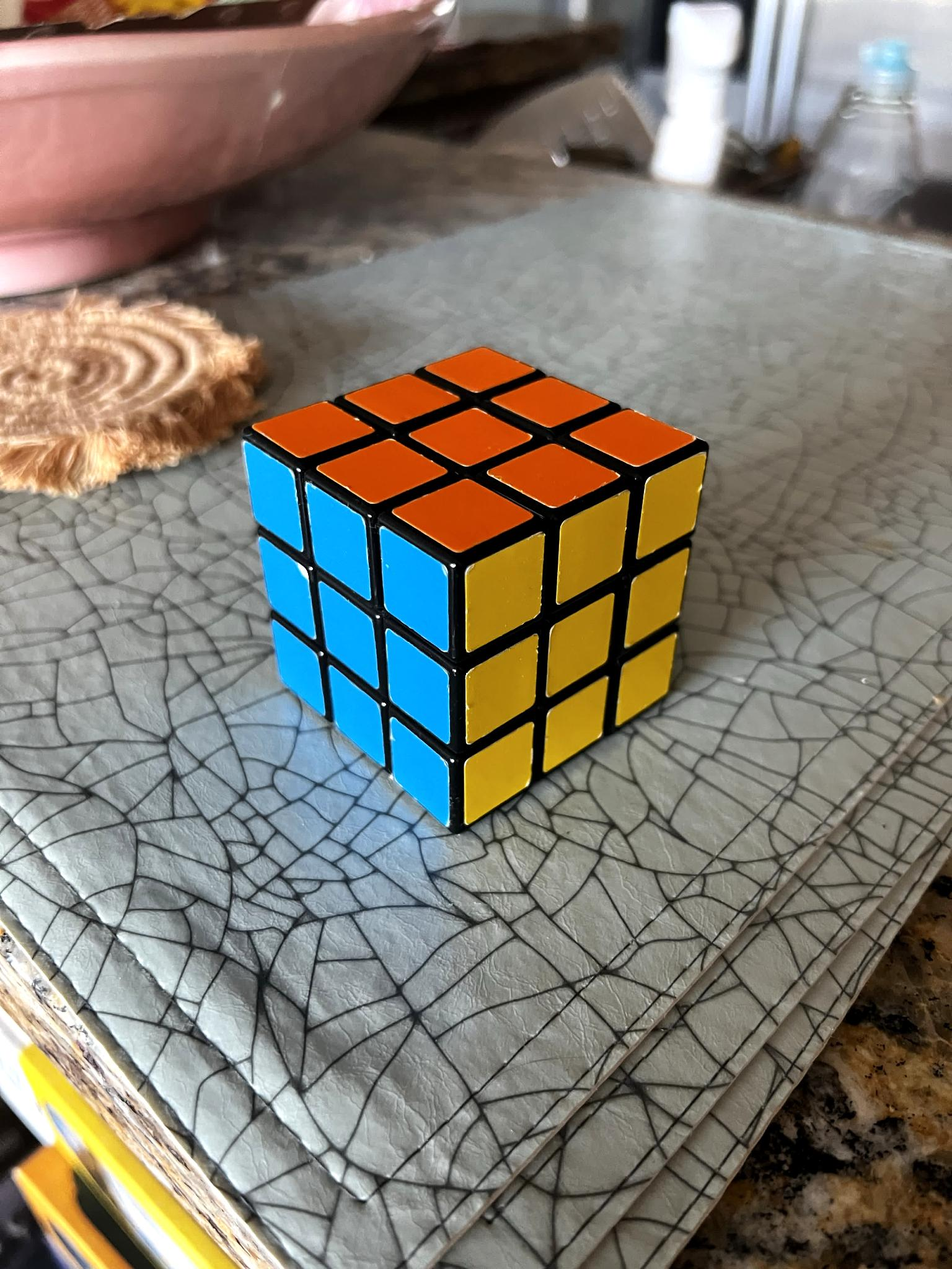rubiks_cube: (243, 347, 707, 825)
